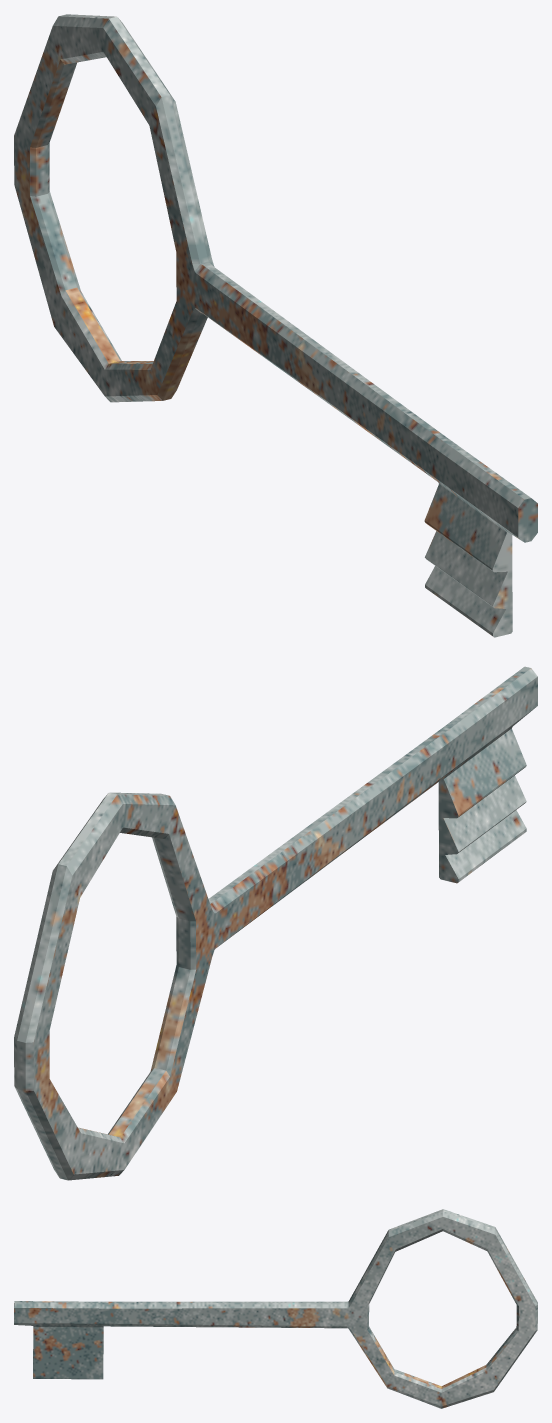
Rendered from rusty_key.glb.
3 views of the same model, one above another, from view 1: azimuth 30°, elevation 25°; view 2: azimuth 150°, elevation 25°; view 3: azimuth 270°, elevation 25° (orthographic). The views are drawn at different scales.
Visible parts, largest first — view 1: Cube; view 2: Cube; view 3: Cube.
Boxes of the visible parts, box(x1,y1,x2,y2) form: Cube: box(14, 14, 537, 637); Cube: box(14, 666, 537, 1180); Cube: box(14, 1209, 537, 1408).
Size of the model in its own units: 0.0245 by 0.3338 by 0.8017.
Materials: 1 (1 with a texture image).
